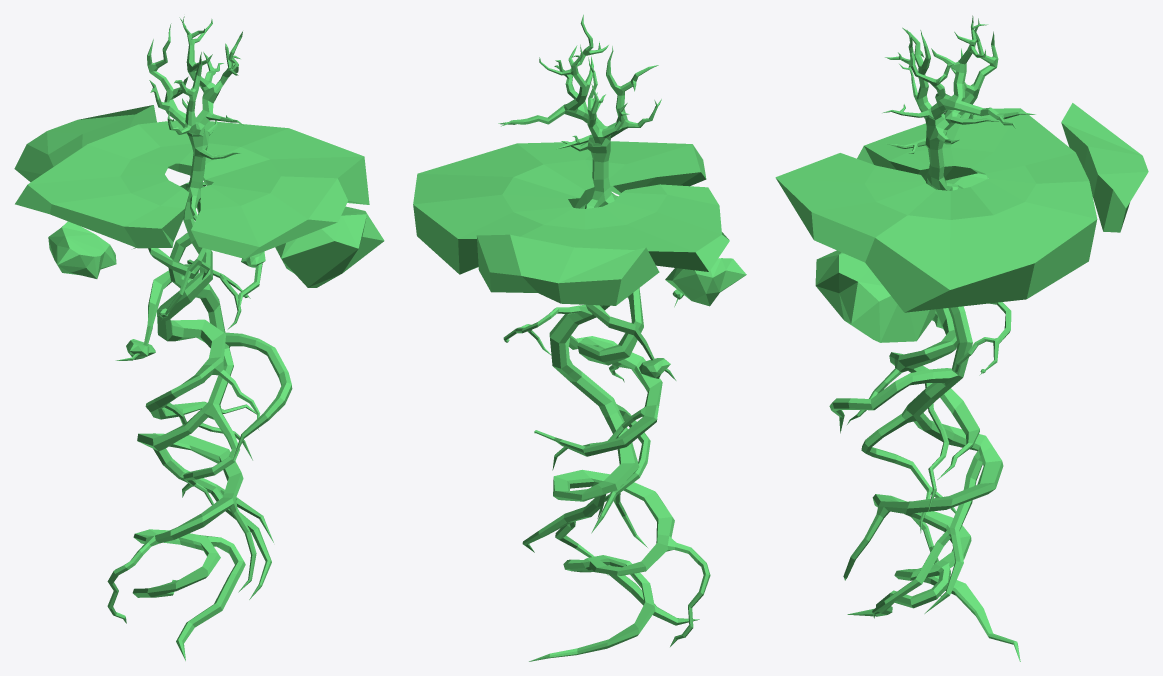
3 views of the same model, side by side, from view 1: azimuth 30°, elevation 25°; view 2: azimuth 150°, elevation 25°; view 3: azimuth 270°, elevation 25° (orthographic). The views are drawn at different scales.
Visible parts, largest first — view 1: Tree.003; view 2: Tree.003; view 3: Tree.003.
Part boxes in pixels (x1=…): Tree.003: x1=14, y1=16, x2=384, y2=660; Tree.003: x1=413, y1=14, x2=746, y2=661; Tree.003: x1=775, y1=15, x2=1148, y2=661.
Bounding box in the file's own units: 5151 × 9203 × 4916.
